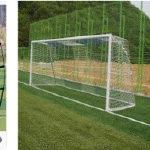goals: (28, 32, 139, 114)
